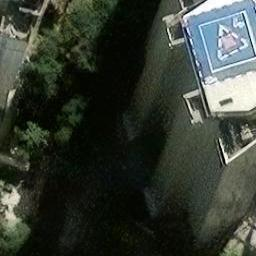heliponto: (198, 12, 255, 73)
